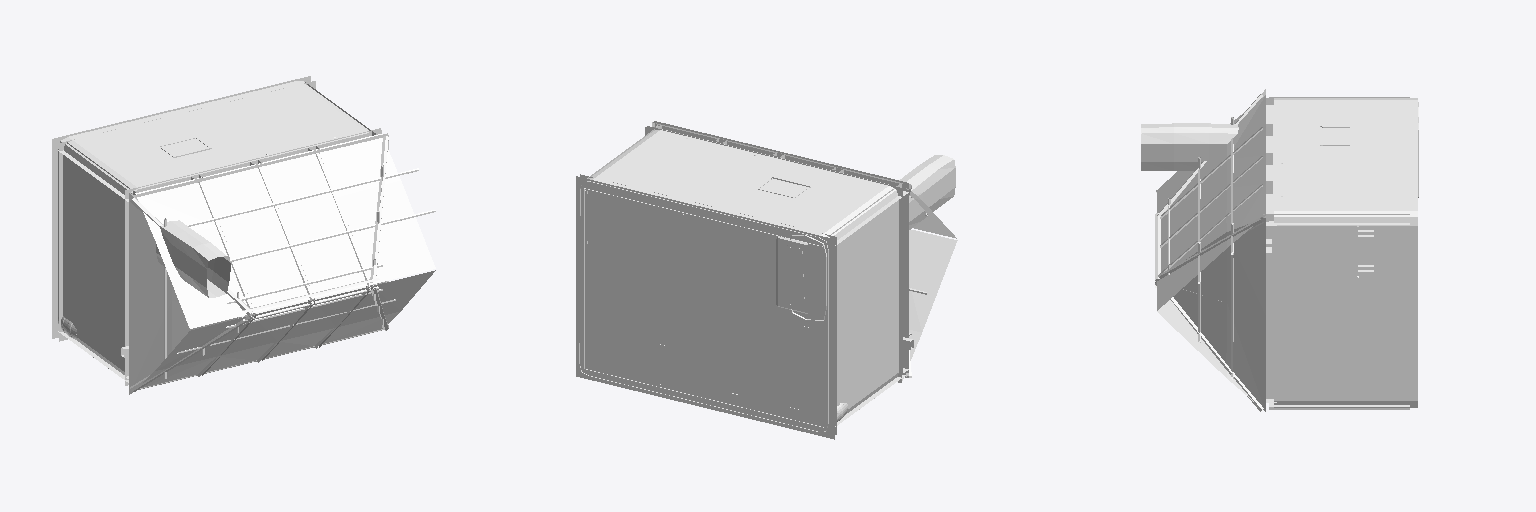
The model's file is nord_room_04.obj.
The picture shows the model from 3 angles: view 1: azimuth 30°, elevation 25°; view 2: azimuth 150°, elevation 25°; view 3: azimuth 270°, elevation 25°; orthographic projection.
Parts seen in each view (by area): view 1: Tri_In_nord_house_03_2, Tri_In_nord_house_03_1, Tri_In_nord_house_03_0, Tri_In_nord_fireplace_01_1, Tri_In_nord_house_03_6, Tri_In_nord_house_03_4, Tri_In_nord_house_03_5; view 2: Tri_In_nord_house_03_6, Tri_In_nord_house_03_1, Tri_In_nord_house_03_0, Tri_In_nord_house_03_2, Tri_In_nord_fireplace_01_1, Tri_In_nord_fireplace_01_2, Contain_crate_01, Tri_In_nord_house_03_4, Tri_In_nord_house_03_5; view 3: Tri_In_nord_house_03_1, Tri_In_nord_house_03_2, Tri_In_nord_house_03_0, Tri_In_nord_fireplace_01_1, Tri_In_nord_house_03_3, Tri_In_nord_house_03_4.
Boxes of the visible parts, box(x1,y1,x2,y2) form: Tri_In_nord_house_03_2: box(129, 134, 435, 394); Tri_In_nord_house_03_1: box(58, 81, 366, 371); Tri_In_nord_house_03_0: box(58, 82, 435, 391); Tri_In_nord_fireplace_01_1: box(156, 220, 230, 297); Tri_In_nord_house_03_6: box(52, 76, 310, 338); Tri_In_nord_house_03_4: box(61, 81, 368, 374); Tri_In_nord_house_03_5: box(59, 81, 315, 341); Tri_In_nord_house_03_6: box(576, 176, 834, 439); Tri_In_nord_house_03_1: box(579, 129, 898, 431); Tri_In_nord_house_03_0: box(588, 121, 927, 426); Tri_In_nord_house_03_2: box(652, 122, 957, 380); Tri_In_nord_fireplace_01_1: box(787, 155, 955, 320); Tri_In_nord_fireplace_01_2: box(776, 236, 807, 313); Contain_crate_01: box(792, 324, 822, 362); Tri_In_nord_house_03_4: box(582, 130, 898, 430); Tri_In_nord_house_03_5: box(580, 174, 836, 434); Tri_In_nord_house_03_1: box(1274, 100, 1417, 400); Tri_In_nord_house_03_2: box(1156, 89, 1265, 411); Tri_In_nord_house_03_0: box(1155, 94, 1409, 411); Tri_In_nord_fireplace_01_1: box(1141, 102, 1418, 170); Tri_In_nord_house_03_3: box(1274, 217, 1417, 407); Tri_In_nord_house_03_4: box(1274, 98, 1417, 216).
Bounding box in the file's own units: 573 × 401 × 497.